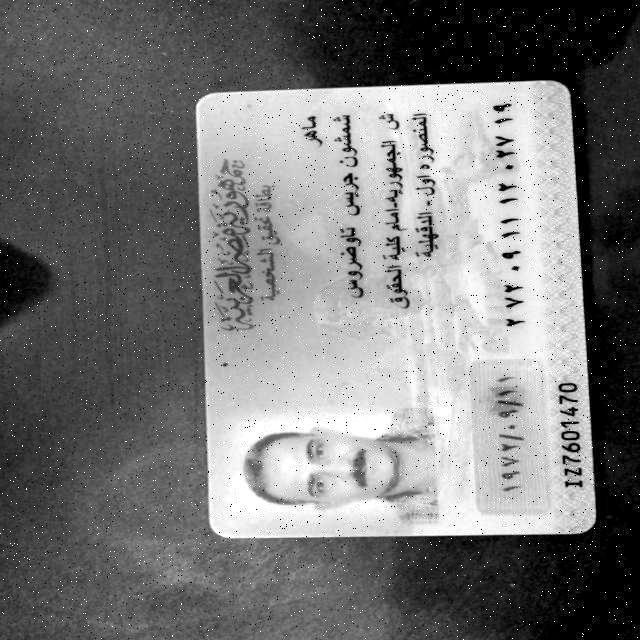id_card: (197, 81, 595, 537)
